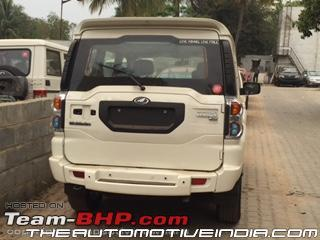plate: (97, 99, 195, 139)
